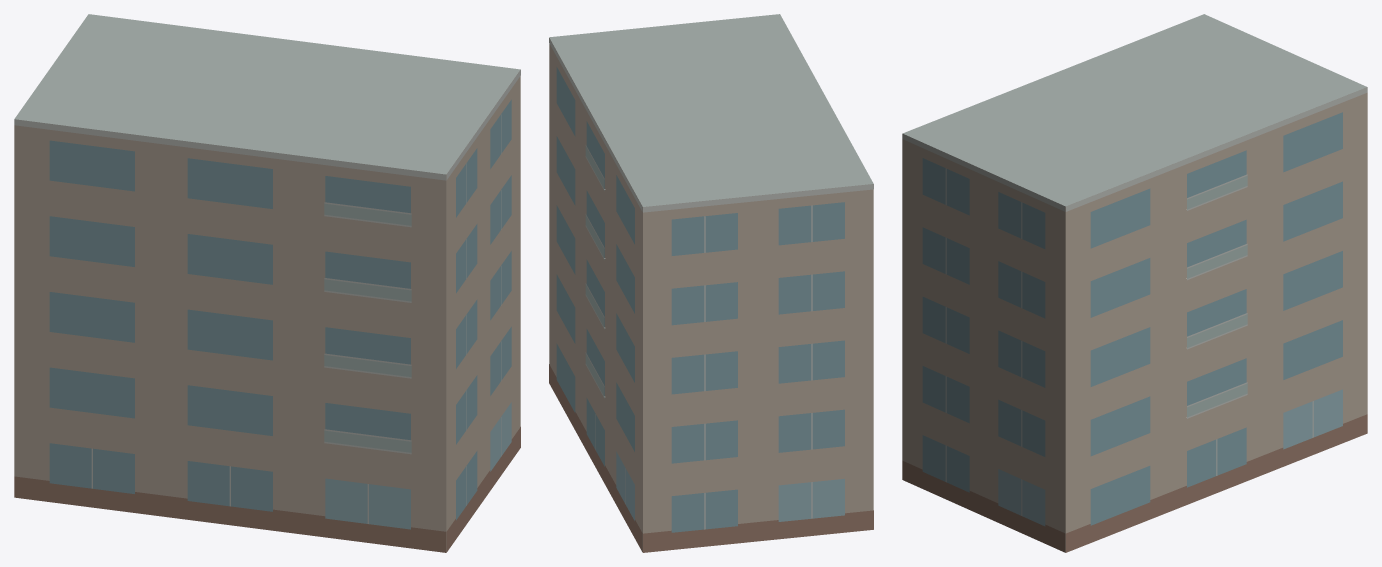
The model's file is survey-upis-32967578.glb.
3 views of the same model, side by side, from view 1: azimuth 30°, elevation 25°; view 2: azimuth 150°, elevation 25°; view 3: azimuth 270°, elevation 25° (orthographic). The views are drawn at different scales.
Parts seen in each view (by area): view 1: survey-upis-32967578.tmp; view 2: survey-upis-32967578.tmp; view 3: survey-upis-32967578.tmp.
Boxes of the visible parts, x1,y1,x2,y2 form: survey-upis-32967578.tmp: (14, 14, 520, 552); survey-upis-32967578.tmp: (549, 14, 873, 552); survey-upis-32967578.tmp: (902, 14, 1367, 552).
Bounding box in the file's own units: 18.18 × 15.25 × 18.56.
